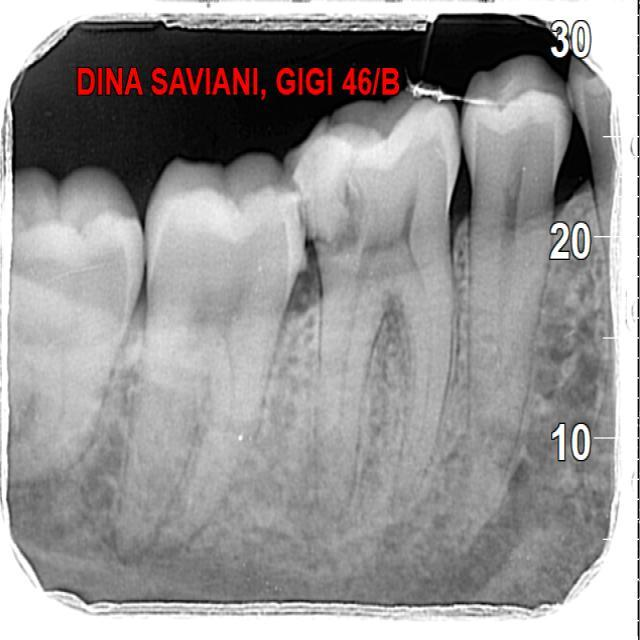individual-tooth-8tto: (108, 157, 305, 558), (275, 97, 463, 516)
